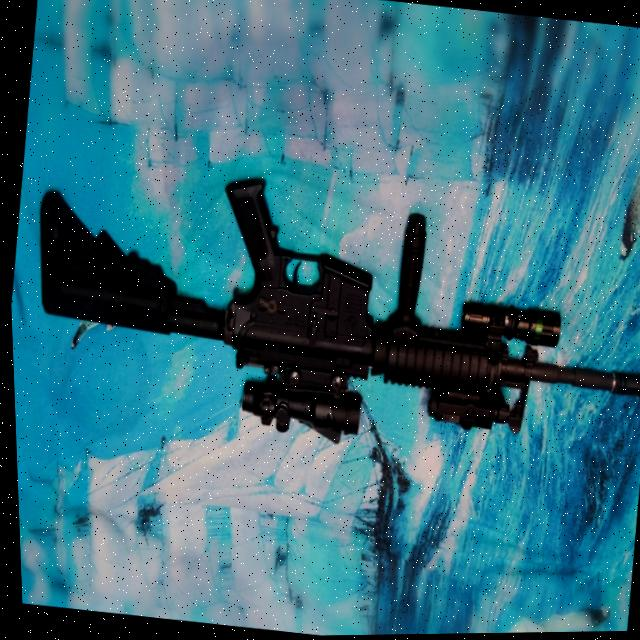firearm: (9, 146, 640, 488)
